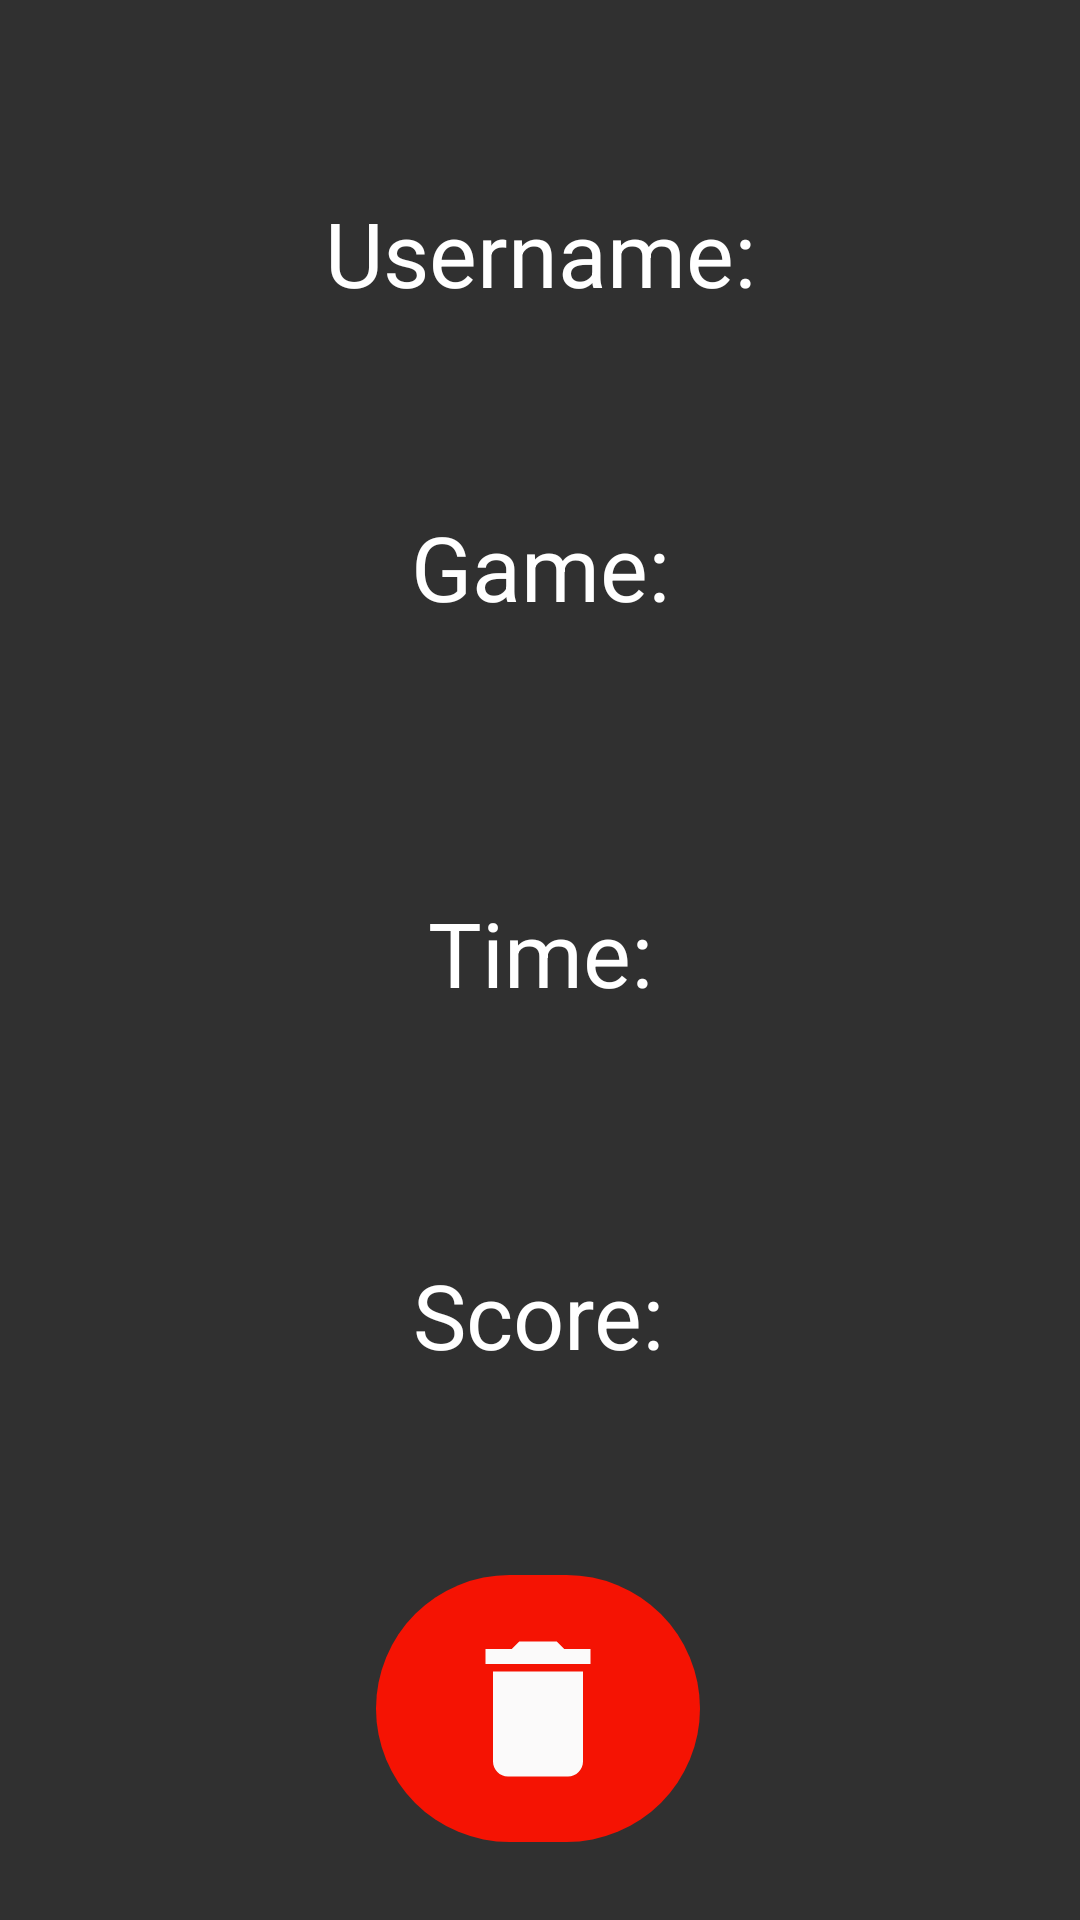

Where icons sit on this 1080px×1920px app screen, as [left=x1, top=y1, right=x2, bottom=y2]:
delete: [left=376, top=1575, right=700, bottom=1842]
